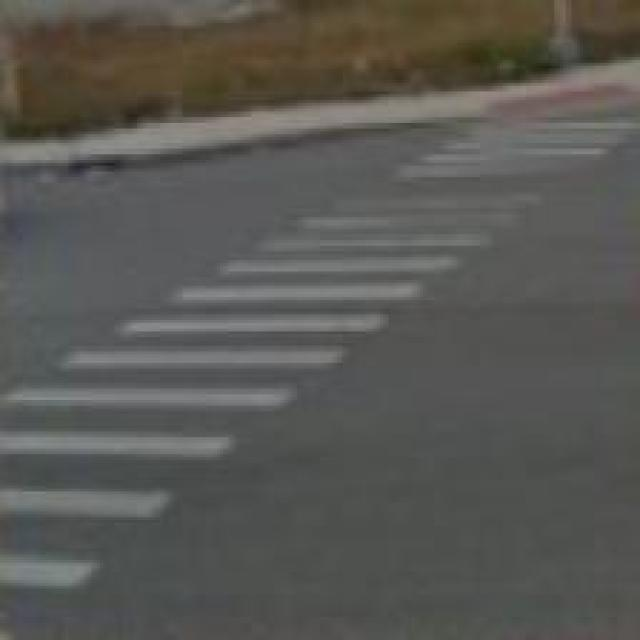walk-crossing: (2, 100, 610, 629)
